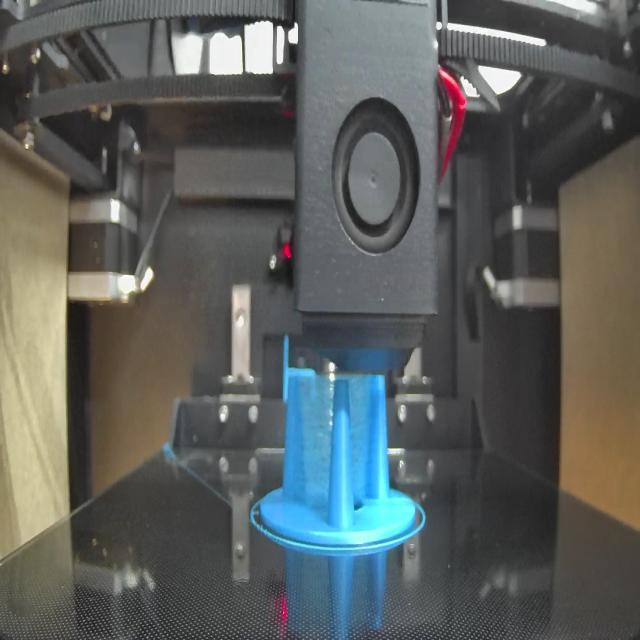stringing: (296, 375, 334, 526), (352, 376, 375, 512)
